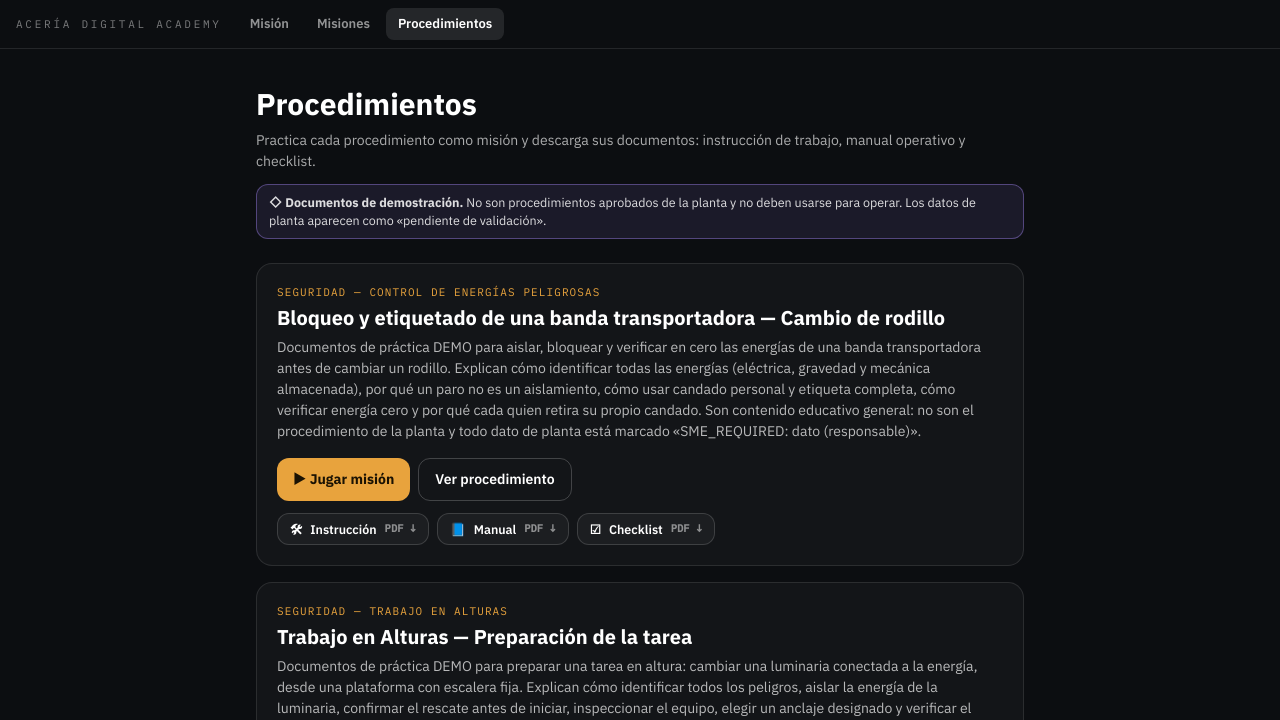
Test: procedimientos y documentos › el menú de procedimientos lista, abre el lector y ofrece las 3 descargas
Click the button with test id "read-loto-banda". click: (495, 479)
box: left=418, top=458, right=572, bottom=500
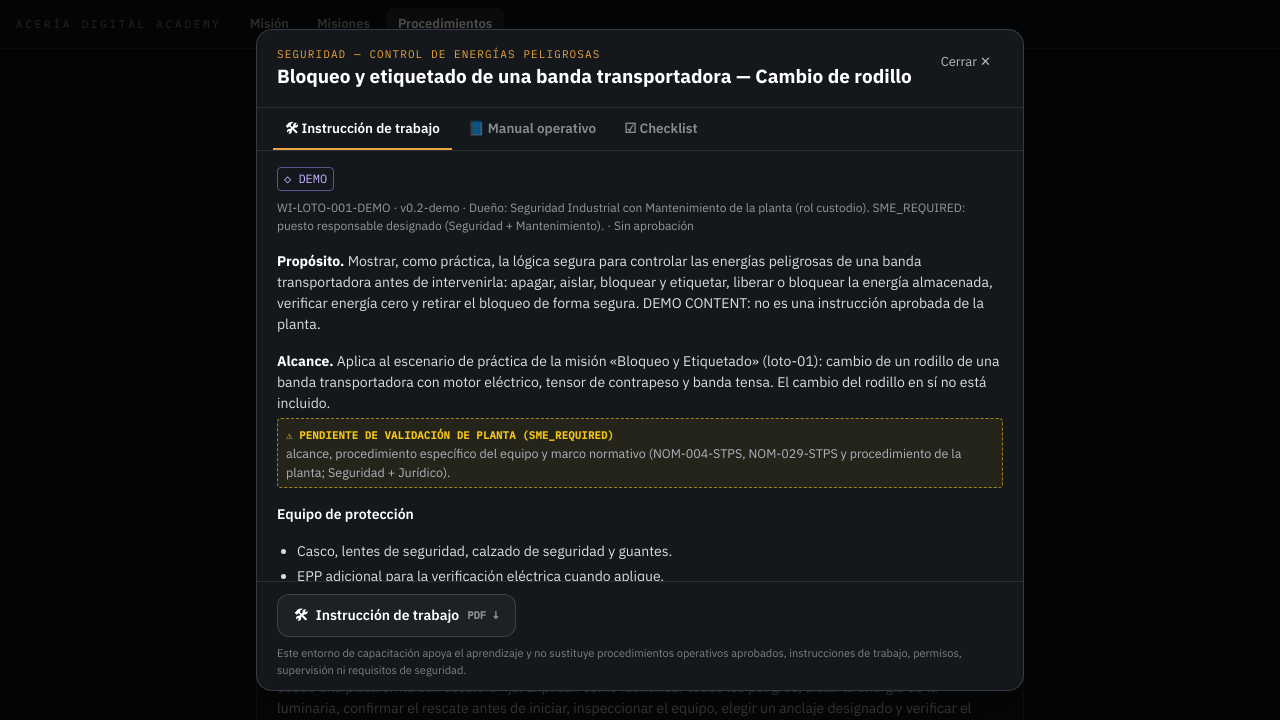
Expected: the dialog with test id "proc-reader" shows "DEMO", left=284, top=171, right=327, bottom=186
Click the tab with test id "reader-tab-checklist". click: (661, 129)
box: left=612, top=108, right=710, bottom=150
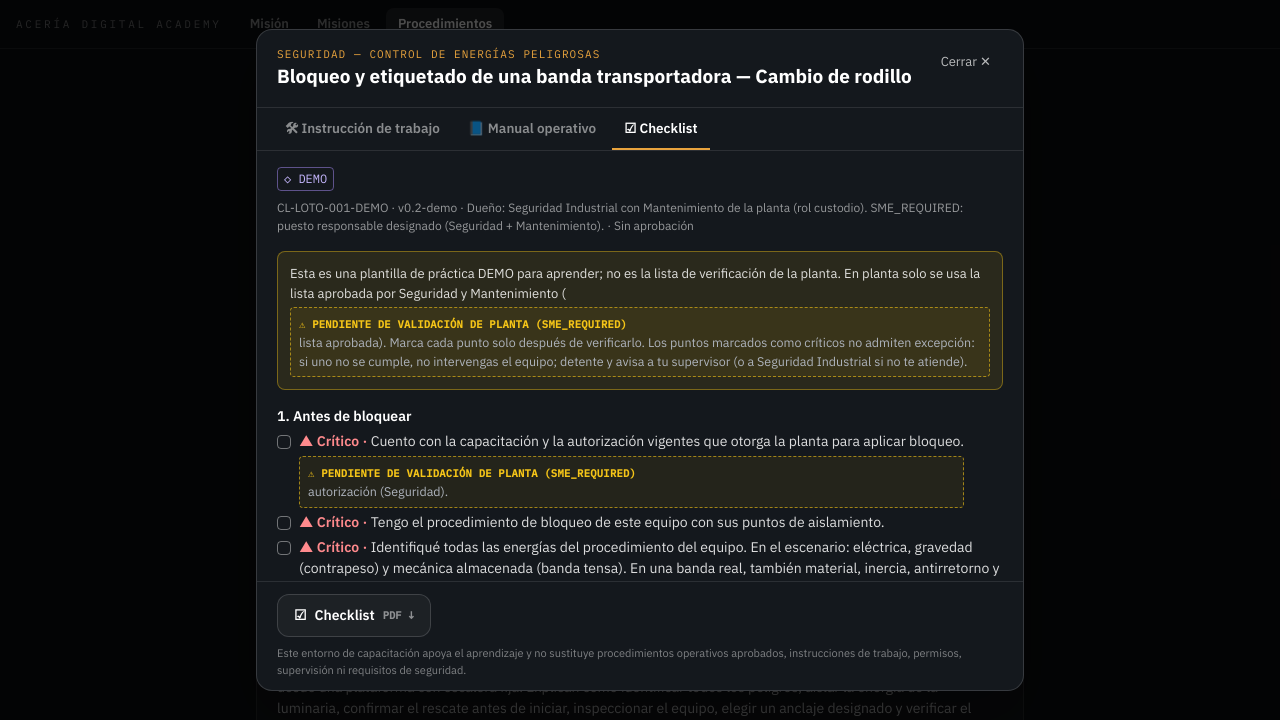
Click the button with test id "reader-close". click: (966, 62)
box: left=929, top=46, right=1003, bottom=77
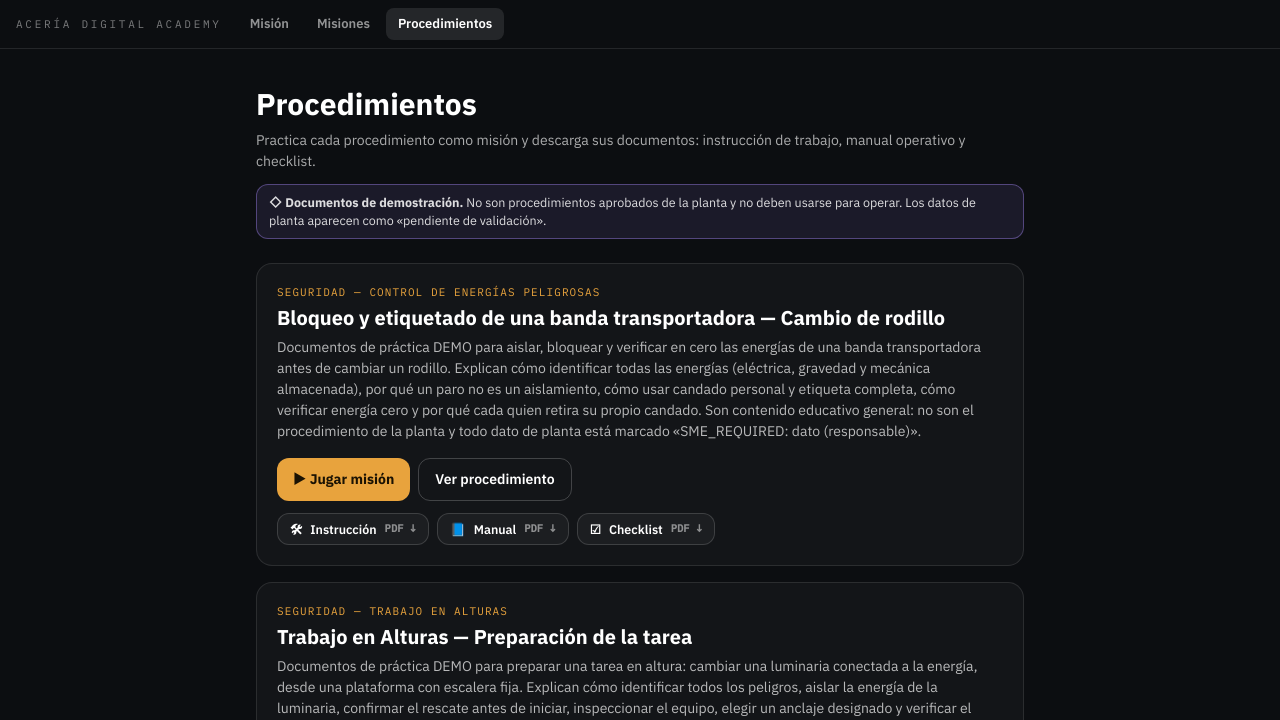
Click the button with test id "play-loto-01". click: (344, 479)
box: left=277, top=458, right=410, bottom=500
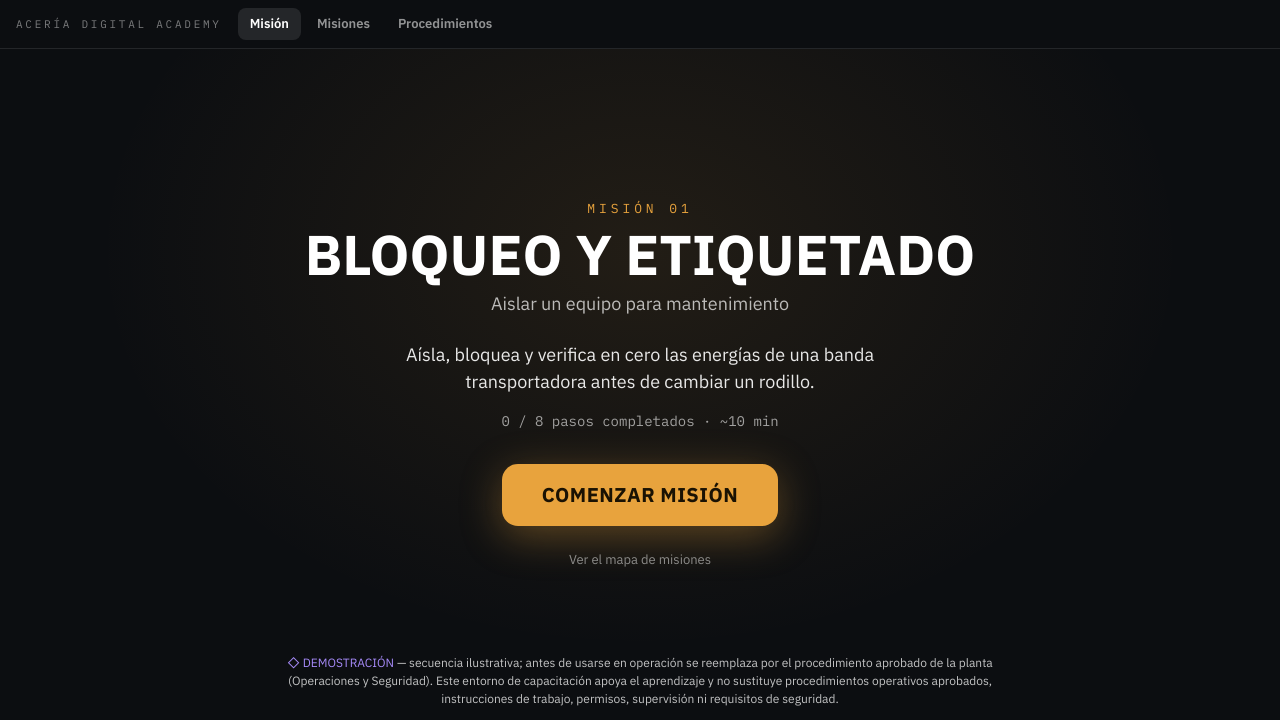
Expected: the element with test id "mission-intro" shows "BLOQUEO Y ETIQUETADO", left=305, top=218, right=975, bottom=290
